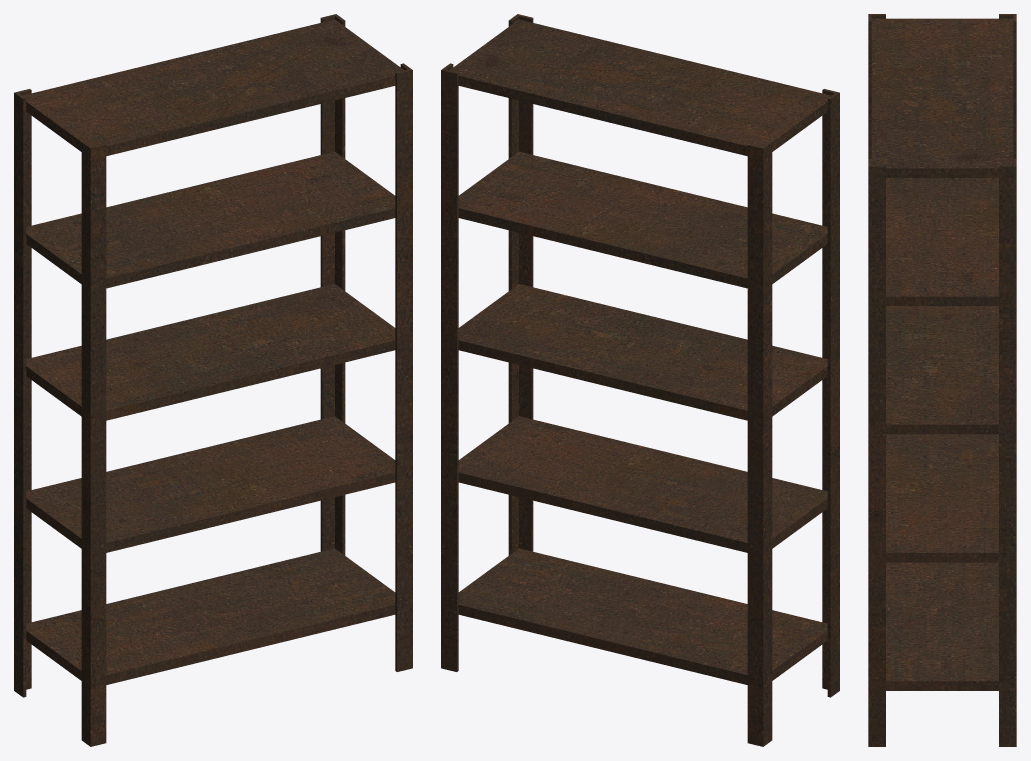
File: shelf_mx_5.glb
The picture shows the model from 3 angles, left to right: view 1: azimuth 30°, elevation 25°; view 2: azimuth 150°, elevation 25°; view 3: azimuth 270°, elevation 25°; orthographic projection. The views are drawn at different scales.
Visible parts, largest first — view 1: shelf_mx_5; view 2: shelf_mx_5; view 3: shelf_mx_5.
Boxes of the visible parts, left/top/right/bottom form: shelf_mx_5: left=14, top=14, right=412, bottom=746; shelf_mx_5: left=441, top=14, right=839, bottom=746; shelf_mx_5: left=868, top=14, right=1016, bottom=746.
Size of the model in its own units: 1.02 by 1.81 by 0.42.
Materials: 1 (1 with a texture image).
